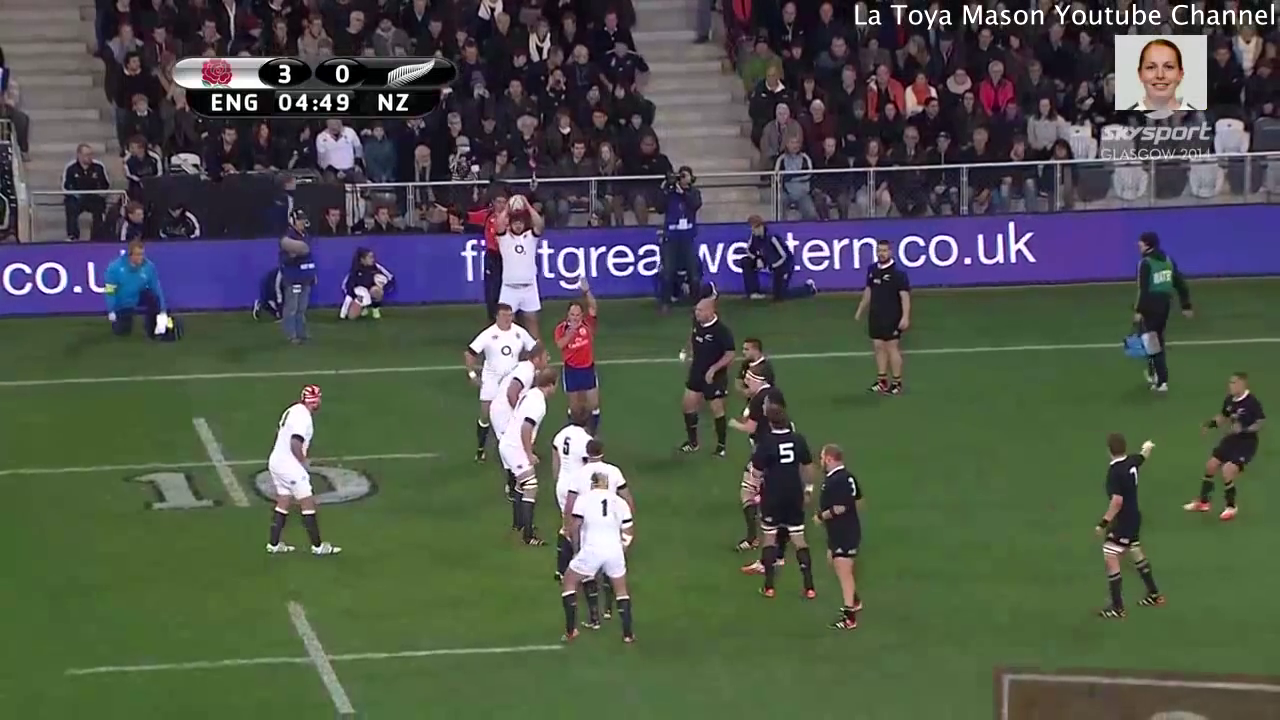10_metre: (55, 592, 566, 720), (1, 405, 451, 520)
ball: (501, 183, 539, 220)
player: (1084, 420, 1173, 627), (553, 470, 649, 656), (260, 376, 353, 566), (745, 386, 821, 607), (844, 226, 935, 404), (1110, 226, 1200, 400), (488, 360, 564, 561), (1181, 360, 1265, 532), (813, 440, 878, 637), (457, 299, 536, 461), (663, 290, 729, 468), (482, 188, 553, 341), (550, 273, 617, 432), (732, 360, 769, 564), (484, 333, 549, 449), (540, 406, 598, 520), (549, 432, 645, 497), (729, 330, 761, 370), (549, 272, 563, 319)
